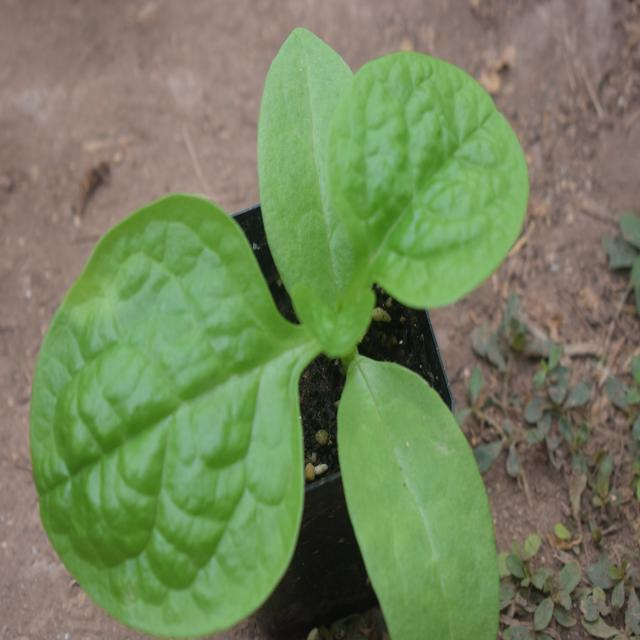Ceylon spinach: (43, 49, 528, 627)
